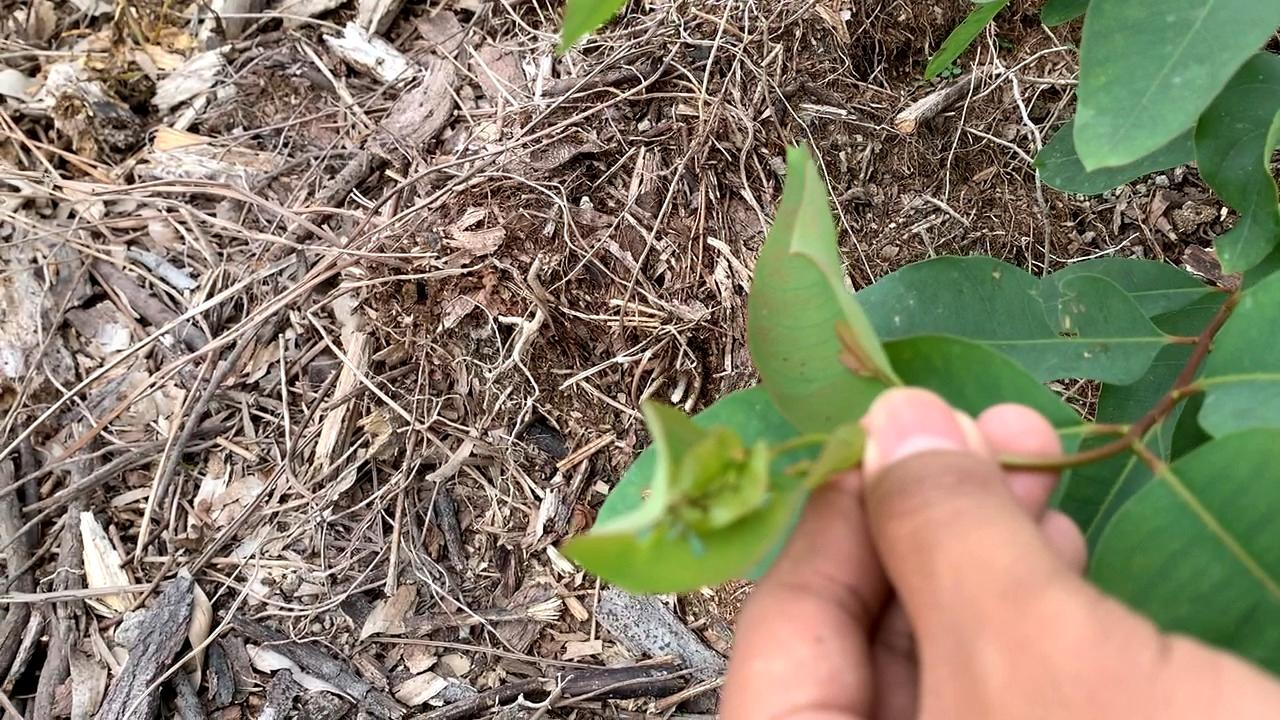Leaf Roller - Leaf: (572, 397, 857, 598)
